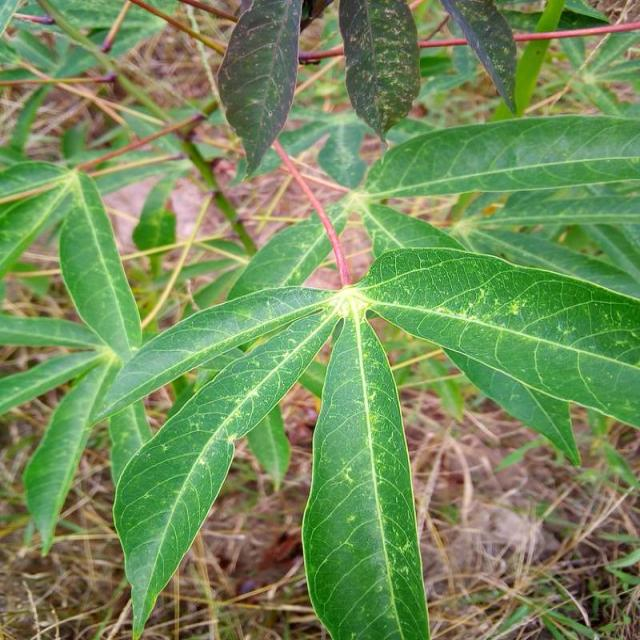cassava leaf: (110, 286, 342, 638), (356, 244, 640, 466), (302, 304, 432, 638), (217, 0, 304, 178), (340, 0, 422, 141)
